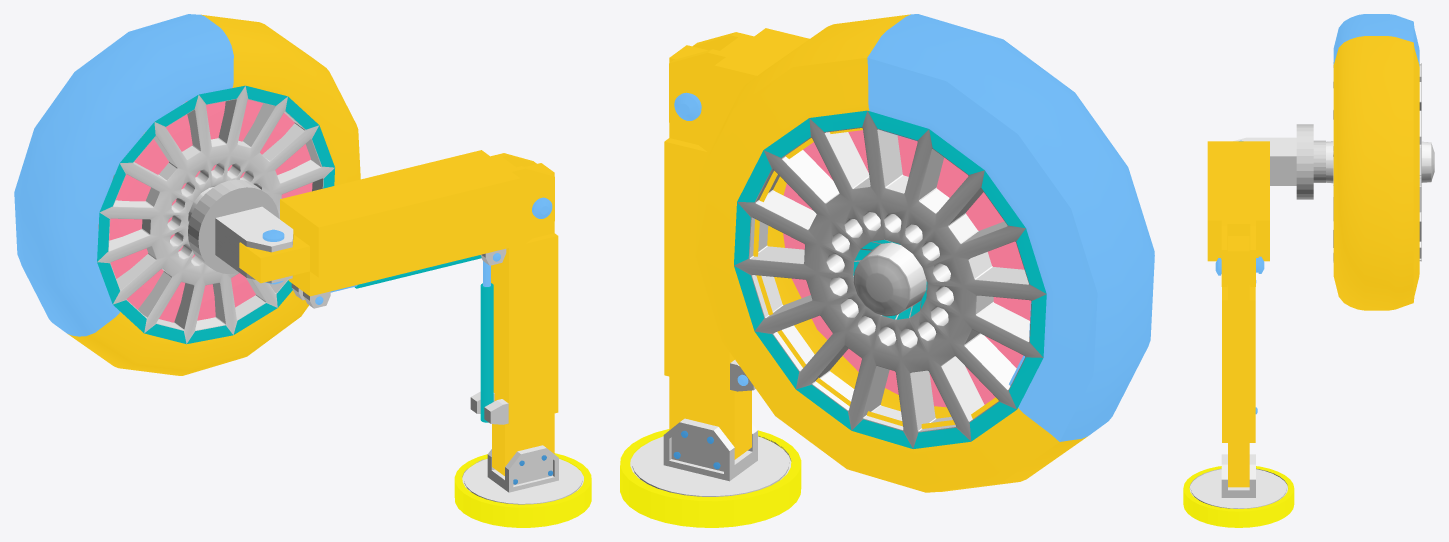
3 renders of one model, left to right at view 1: azimuth 30°, elevation 25°; view 2: azimuth 150°, elevation 25°; view 3: azimuth 270°, elevation 25°, orthographic. The views are drawn at different scales.
Parts seen in each view (by area): view 1: ban_2.004, ban_2.007, Plane.007, Cube.001, ban_2.005, Plane.006, Circle.021, Circle.022, Plane.011, Cylinder.004, Circle.031, Plane.008; view 2: ban_2.004, ban_2.007, Cube.001, Plane.006, Plane.007, Circle.021, ban_2.005, Circle.031; view 3: ban_2.004, Cube.001, Plane.007, Plane.006, Circle.021, Circle.022, ban_2.007, Plane.011.
Part boxes in pixels (box(x1,y1,x2,y2)): ban_2.004: box(14, 14, 360, 375); ban_2.007: box(97, 85, 334, 344); Plane.007: box(239, 150, 554, 296); Cube.001: box(491, 163, 558, 475); ban_2.005: box(98, 87, 312, 322); Plane.006: box(462, 445, 583, 504); Circle.021: box(454, 453, 591, 527); Circle.022: box(188, 179, 278, 274); Plane.011: box(215, 206, 293, 283); Cylinder.004: box(480, 283, 493, 422); Circle.031: box(262, 197, 552, 304); Plane.008: box(470, 391, 508, 424); ban_2.004: box(695, 14, 1154, 492); ban_2.007: box(734, 110, 1046, 448); Cube.001: box(664, 45, 751, 459); Plane.006: box(630, 418, 791, 496); Plane.007: box(669, 28, 809, 152); Circle.021: box(620, 429, 801, 527); ban_2.005: box(783, 130, 1030, 407); Circle.031: box(674, 92, 748, 385); ban_2.004: box(1333, 14, 1419, 310); Cube.001: box(1222, 236, 1255, 487); Plane.007: box(1207, 141, 1269, 286); Plane.006: box(1189, 454, 1287, 508); Circle.021: box(1183, 466, 1294, 527); Circle.022: box(1296, 124, 1325, 199); ban_2.007: box(1326, 62, 1434, 262); Plane.011: box(1233, 137, 1296, 185).
Bounding box in the file's own units: 22.62 × 21.68 × 13.01.
